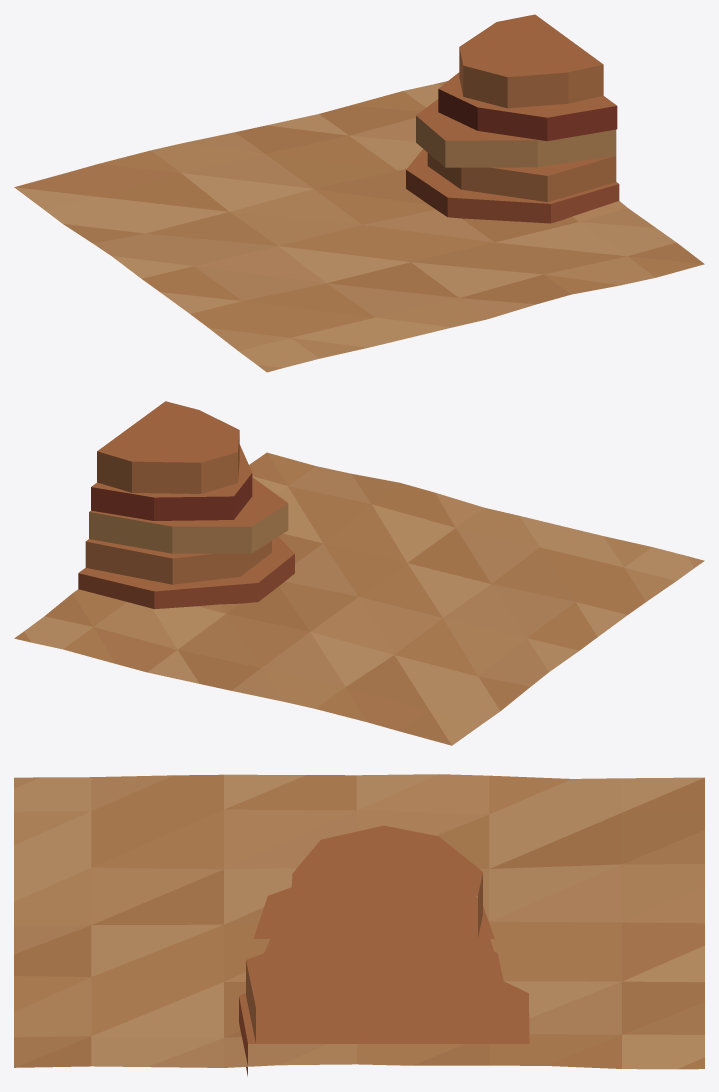
3 views of the same model, one above another, from view 1: azimuth 30°, elevation 25°; view 2: azimuth 150°, elevation 25°; view 3: azimuth 270°, elevation 25° (orthographic). The views are drawn at different scales.
Visible parts, largest first — view 1: baked; view 2: baked; view 3: baked.
Boxes of the visible parts, left/top/right/bottom form: baked: left=14, top=14, right=704, bottom=372; baked: left=14, top=401, right=704, bottom=745; baked: left=14, top=774, right=704, bottom=1076.
Bounding box in the file's own units: 62.5 × 18.11 × 62.5.
